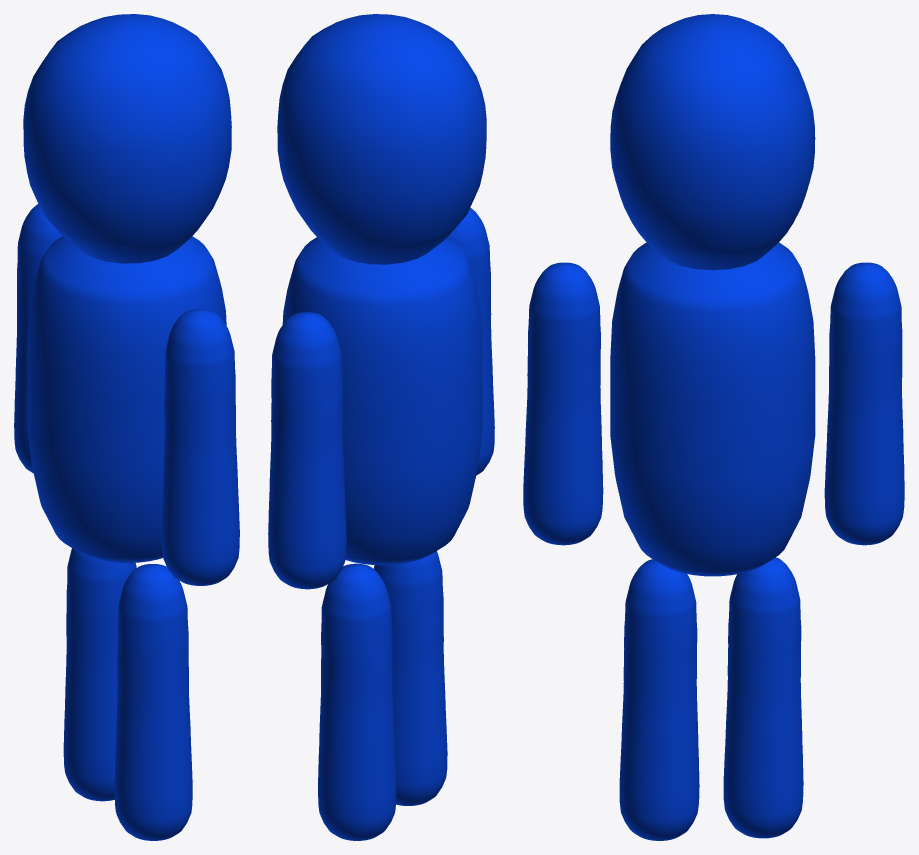
3 renders of one model, left to right at view 1: azimuth 30°, elevation 25°; view 2: azimuth 150°, elevation 25°; view 3: azimuth 270°, elevation 25°, orthographic. The views are drawn at different scales.
Visible parts, largest first — view 1: pasted__pasted__pCylinder4 (×3), pCylinder3, head, pasted__pCylinder4; view 2: pCylinder3, head, pasted__pasted__pCylinder4 (×3), pasted__pCylinder4; view 3: pasted__pasted__pCylinder4 (×3), pCylinder3, head, pasted__pCylinder4.
Boxes of the visible parts, left/top/right/bottom form: pasted__pasted__pCylinder4 (×3): left=63, top=309, right=239, bottom=840; pCylinder3: left=27, top=236, right=226, bottom=562; head: left=23, top=14, right=231, bottom=263; pasted__pCylinder4: left=14, top=204, right=62, bottom=473; pCylinder3: left=282, top=237, right=482, bottom=565; head: left=277, top=14, right=486, bottom=264; pasted__pasted__pCylinder4 (×3): left=318, top=207, right=494, bottom=840; pasted__pCylinder4: left=268, top=312, right=346, bottom=589; pasted__pasted__pCylinder4 (×3): left=523, top=262, right=803, bottom=840; pCylinder3: left=610, top=242, right=815, bottom=576; head: left=610, top=14, right=815, bottom=270; pasted__pCylinder4: left=824, top=262, right=904, bottom=545.
Size of the model in its own units: 2.23 by 9.17 by 3.9.
